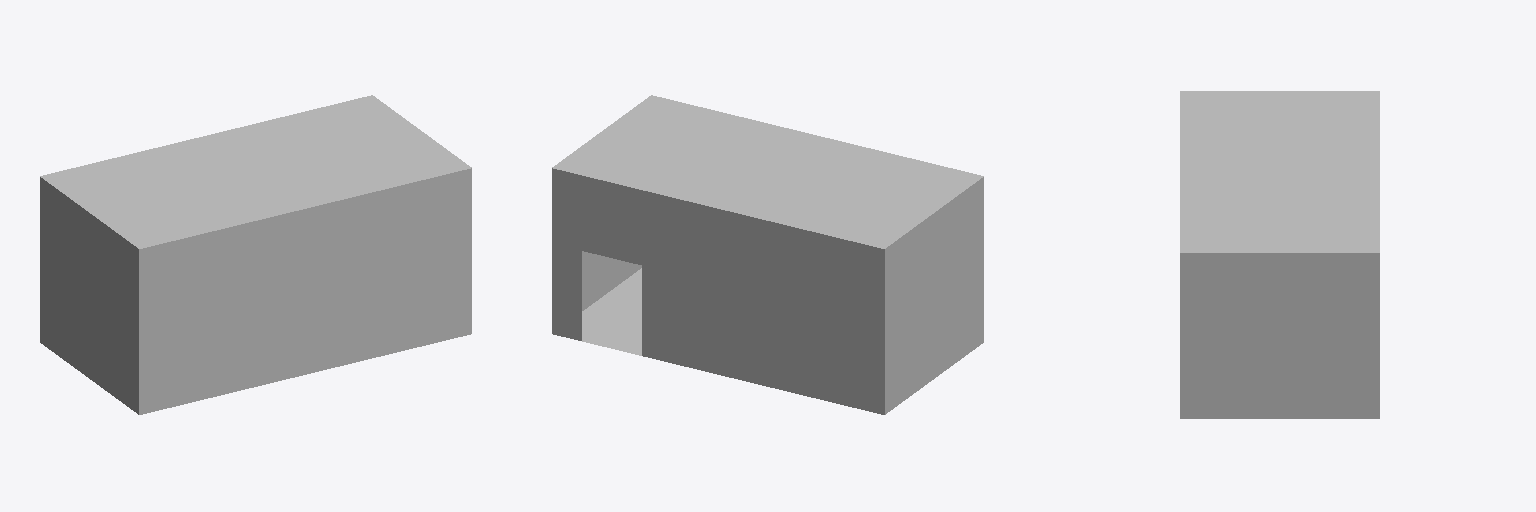
File: problem2.obj
3 renders of one model, left to right at view 1: azimuth 30°, elevation 25°; view 2: azimuth 150°, elevation 25°; view 3: azimuth 270°, elevation 25°, orthographic.
Parts seen in each view (by area): view 1: Cube.001_Cube.003; view 2: Cube.001_Cube.003; view 3: Cube.001_Cube.003.
Boxes of the visible parts, x1,y1,x2,y2 form: Cube.001_Cube.003: [40, 95, 471, 414]; Cube.001_Cube.003: [552, 95, 983, 414]; Cube.001_Cube.003: [1180, 91, 1379, 418].
Bounding box in the file's own units: 79.31 × 38.16 × 41.17.